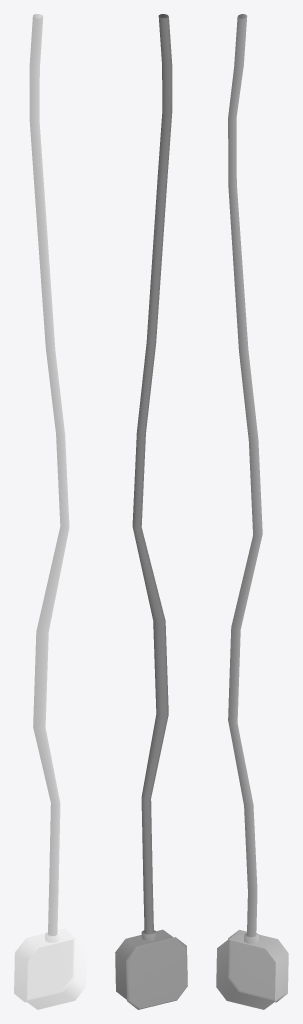
The model's file is Wire_0c0900f4.obj.
The picture shows the model from 3 angles, left to right: view 1: azimuth 30°, elevation 25°; view 2: azimuth 210°, elevation 25°; view 3: azimuth 330°, elevation 25°; orthographic projection.
Visible parts, largest first — view 1: Wire_0c0900f4; view 2: Wire_0c0900f4; view 3: Wire_0c0900f4.
Part boxes in pixels (x1,y1,x2,y2): Wire_0c0900f4: (14,14,86,1009); Wire_0c0900f4: (115,14,187,1009); Wire_0c0900f4: (216,14,288,1009).
Size of the model in its own units: 0.1077 by 1.64 by 0.041.
